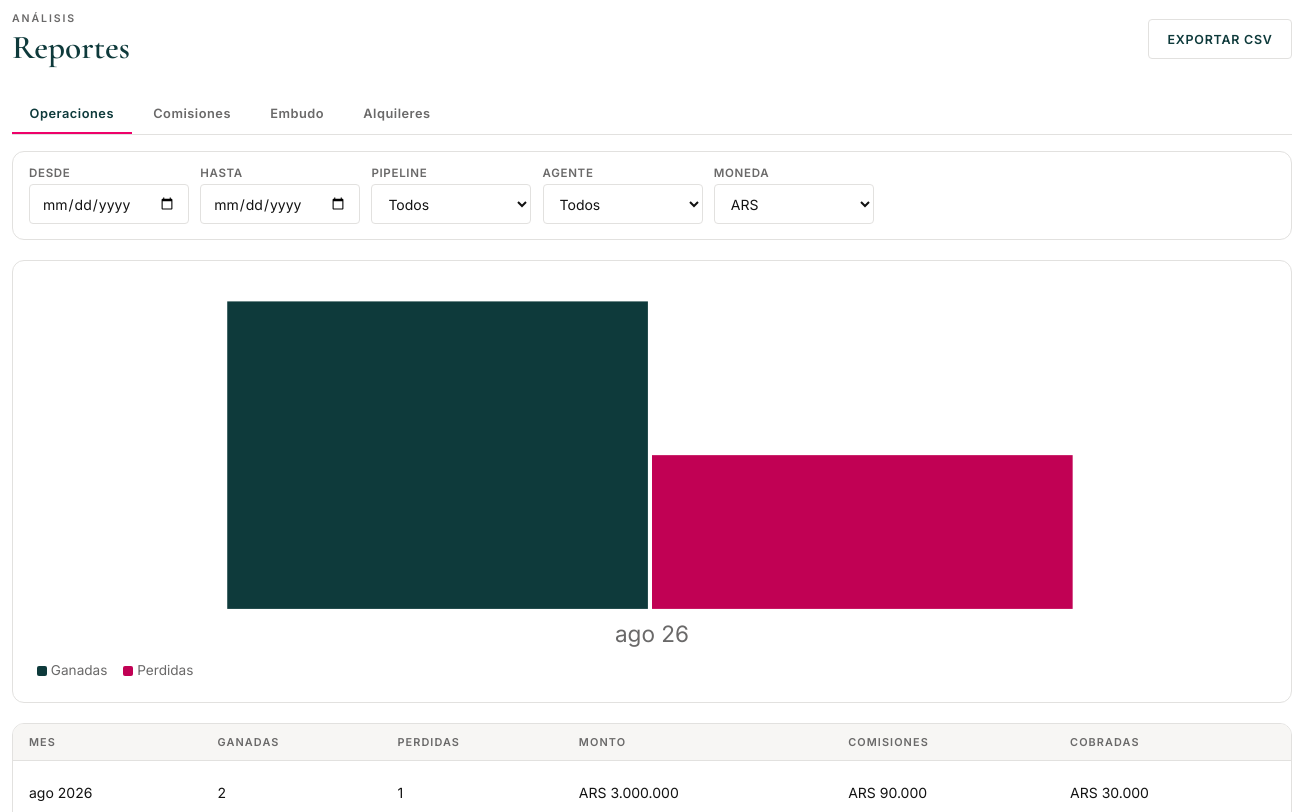
Test: la pestaña Embudo pide el pipeline y muestra la tasa de cierre
Click the tab "Embudo".
click(297, 114)  # box [252,94,342,134]
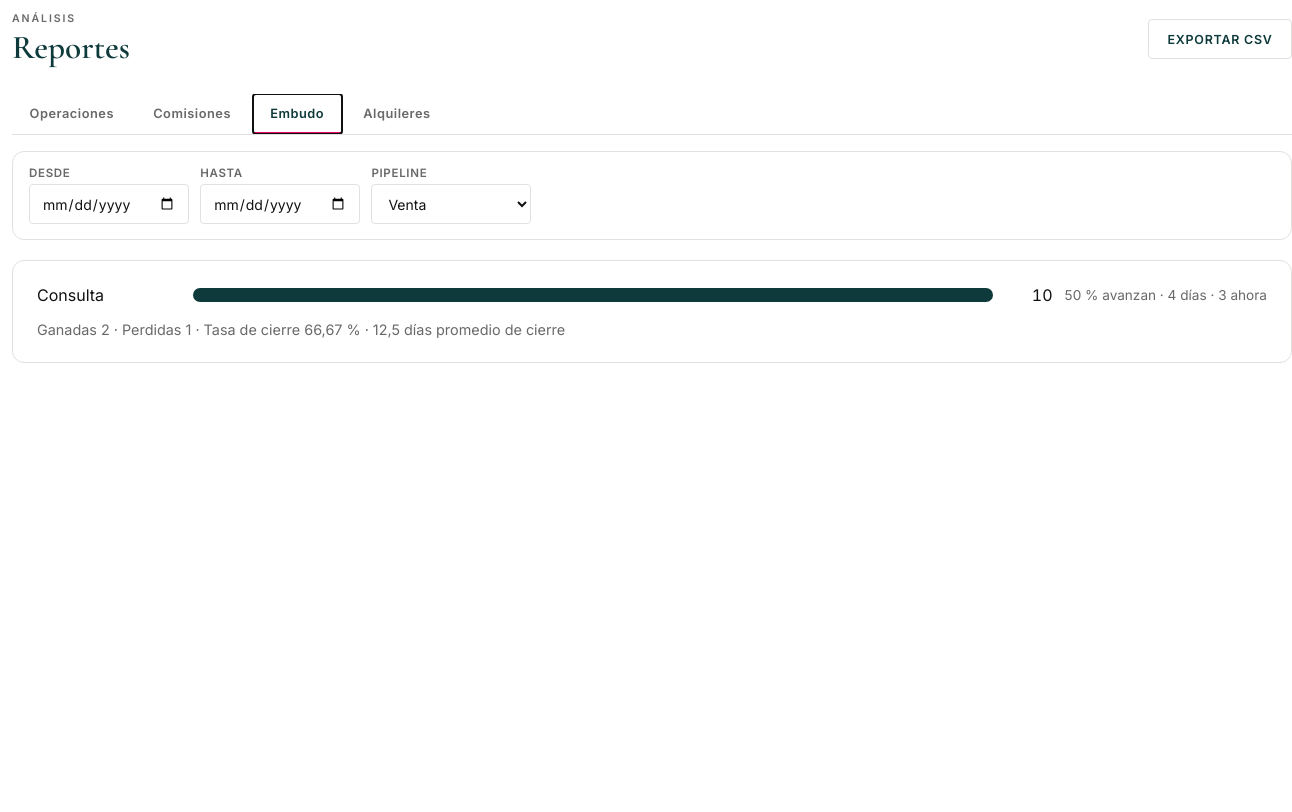
expect the text "Tasa de cierre 66,67 %" is shown: met, box [37,321,565,338]
expect the text "50 % avanzan · 4 días · 3 ahora" is shown: met, box [1065,287,1267,303]
